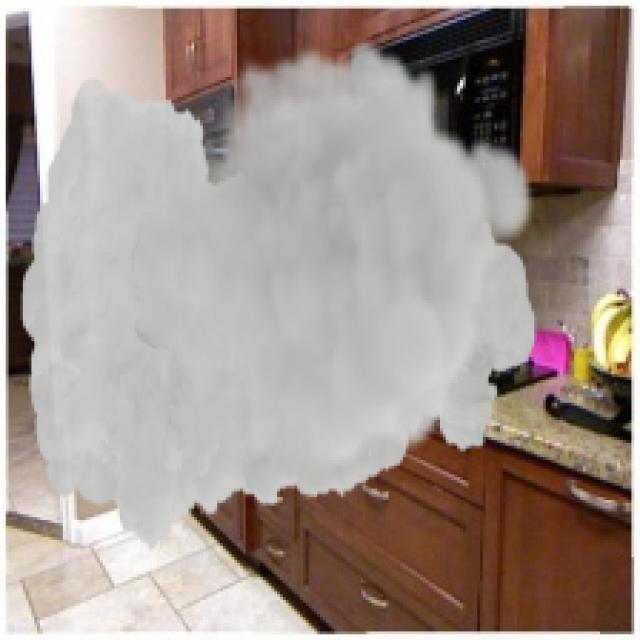smoke: (20, 37, 537, 554)
